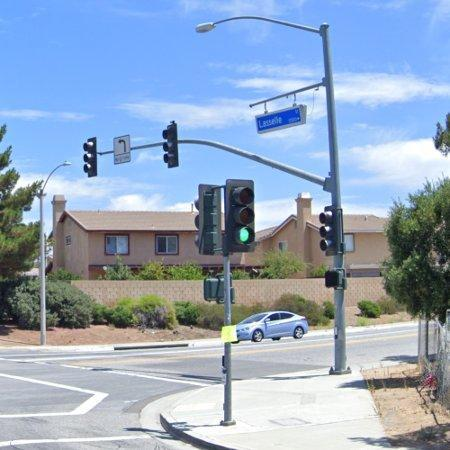traffic lights: (223, 179, 255, 252)
